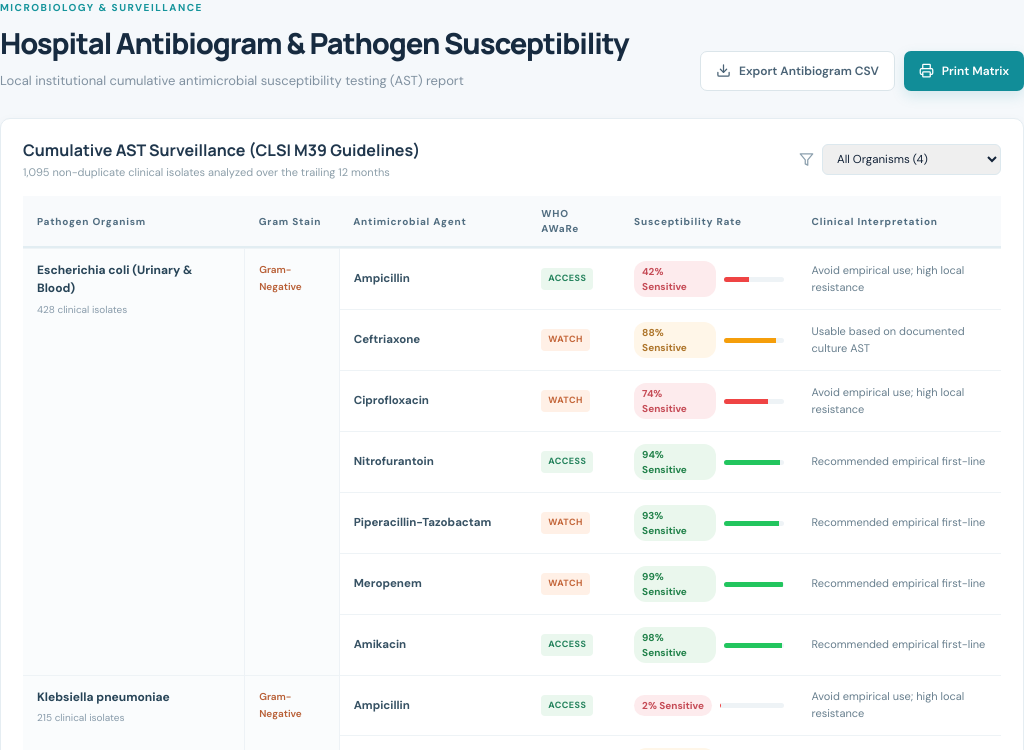
it: Frontend Component: Antibiogram & Pathogen Matrix View › filters matrix when selecting specific organism
Select "Pseudomonas aeruginosa" in the dropdown. click: x=912, y=159
box: [822, 144, 1001, 175]
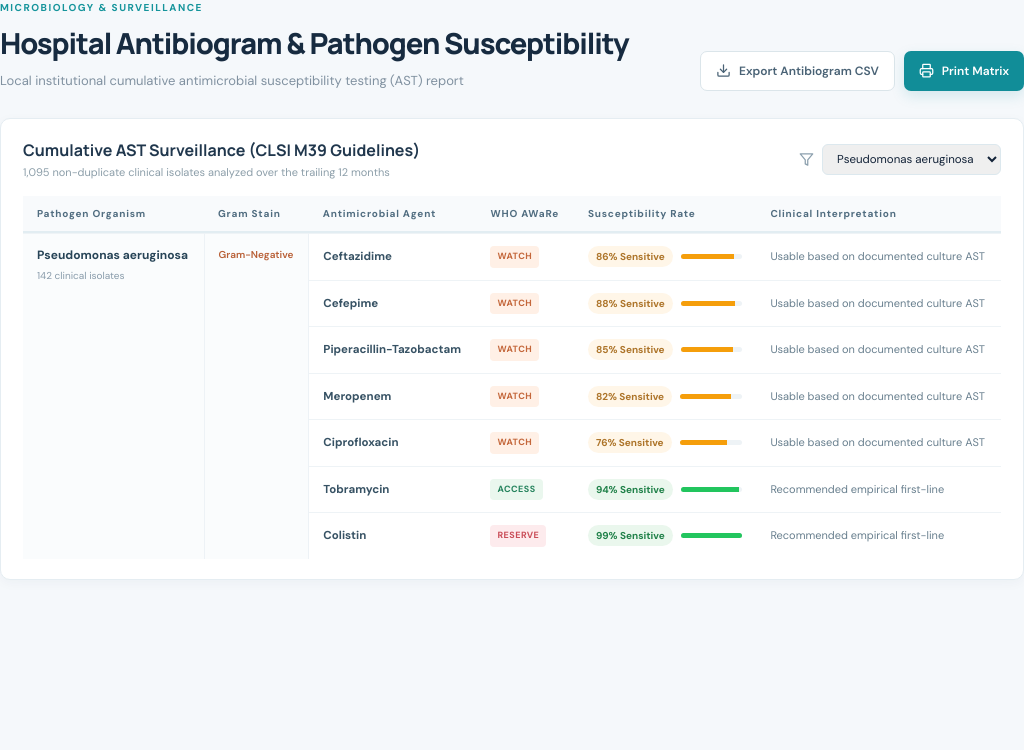
Expected: the text "Escherichia coli (Urinary & Blood)" is gone
